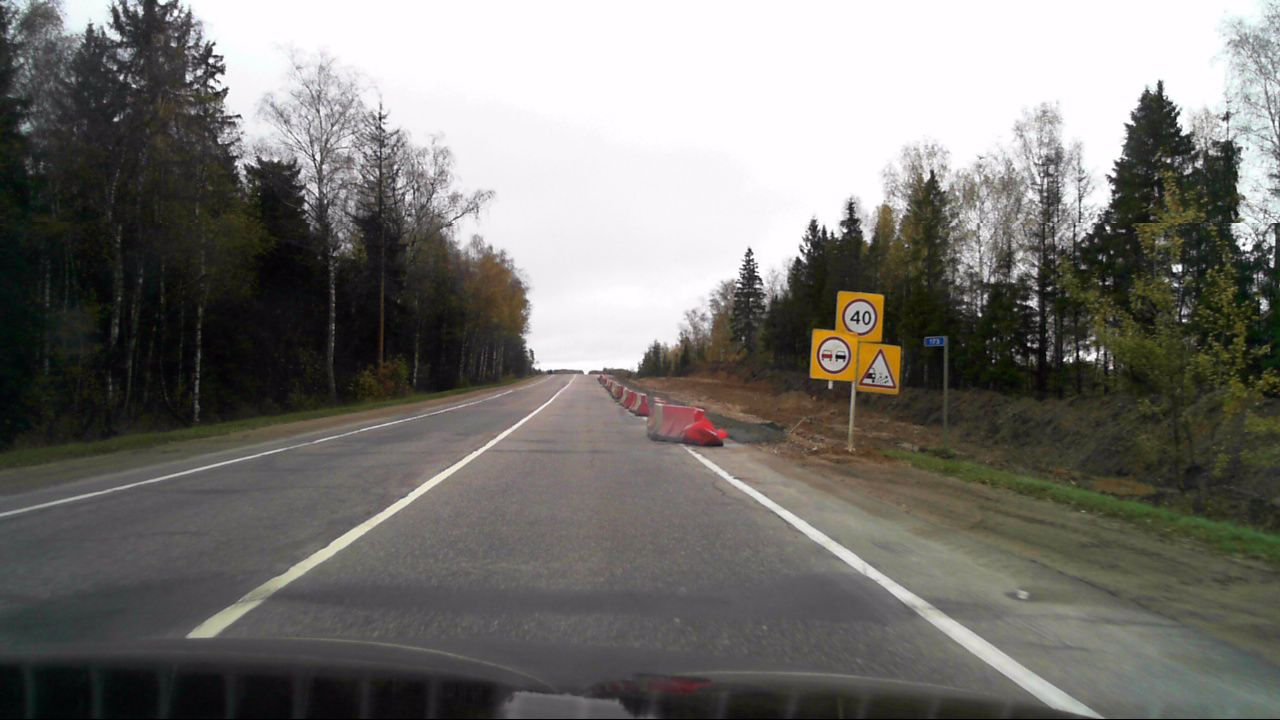speed_warning_40: (835, 291, 882, 342)
